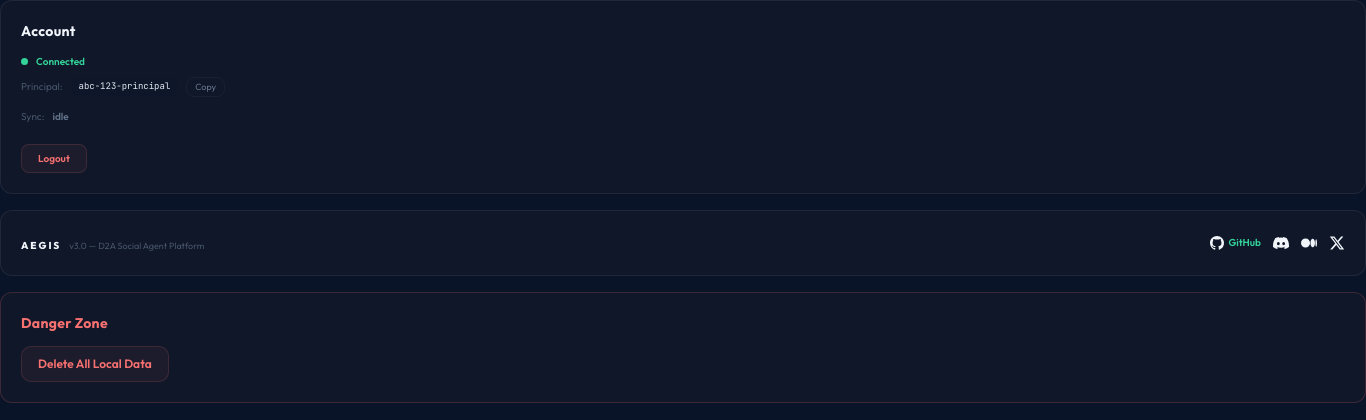
AccountSection — copy principal › shows Copied after successful copy
The image size is (1366, 420).
Click the button with test id "aegis-settings-copy-principal" at point(206, 87), box [186,77,225,96]
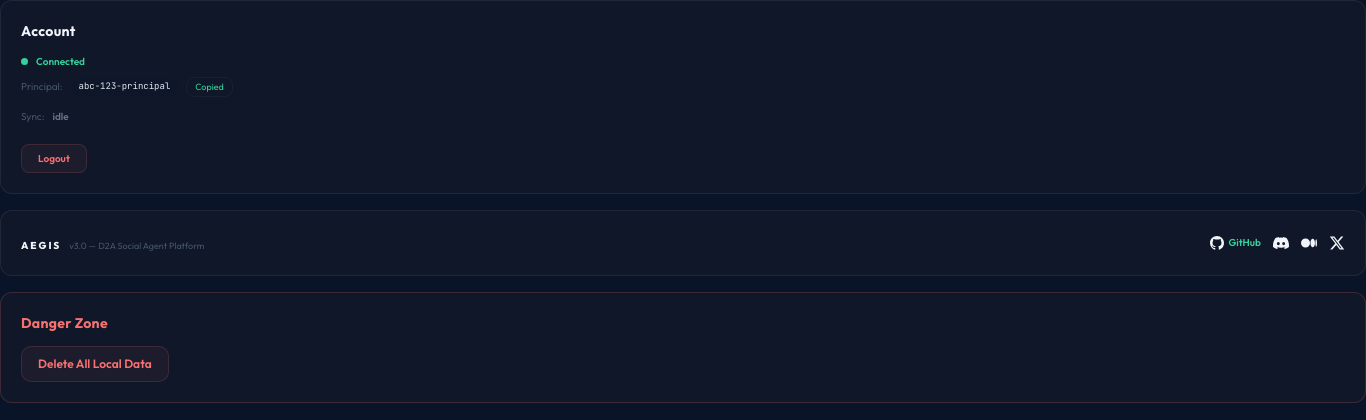
Expected: the button "Copied" is shown, [186,77,233,96]
